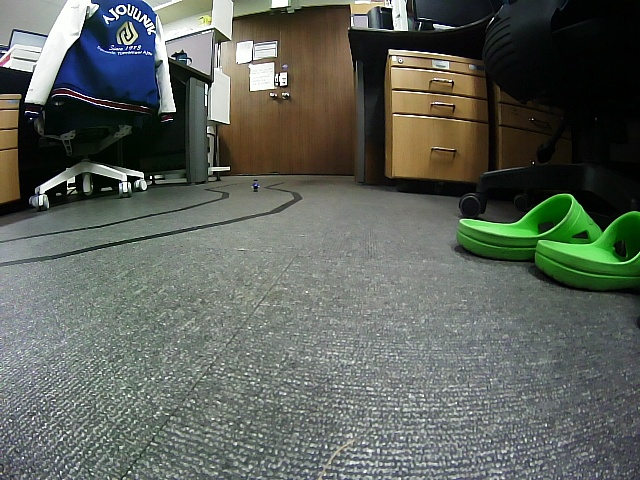person: (250, 181, 261, 192)
